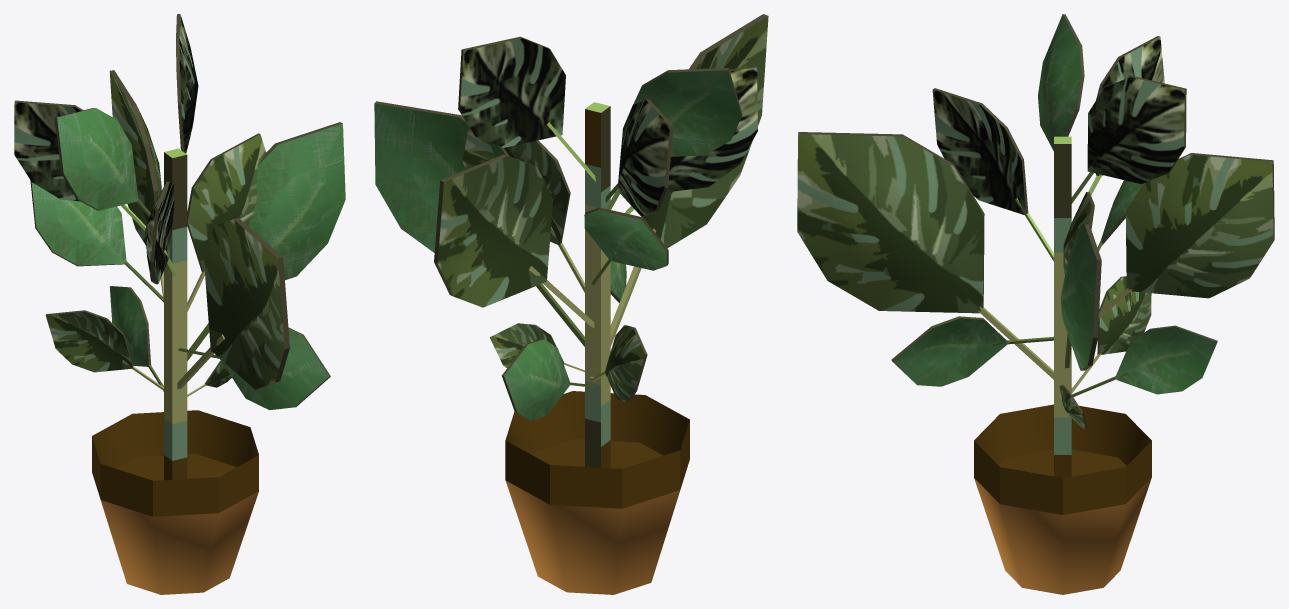
The model's file is Potted_Plant_Small.fbx.
The picture shows the model from 3 angles, left to right: view 1: azimuth 30°, elevation 25°; view 2: azimuth 150°, elevation 25°; view 3: azimuth 270°, elevation 25°; orthographic projection. The views are drawn at different scales.
Visible parts, largest first — view 1: Potted_Plant2; view 2: Potted_Plant2; view 3: Potted_Plant2.
Part boxes in pixels (bbox=[...]): Potted_Plant2: bbox=[14, 14, 345, 594]; Potted_Plant2: bbox=[374, 14, 768, 594]; Potted_Plant2: bbox=[797, 14, 1274, 594].
Size of the model in its own units: 44.67 by 69.31 by 58.48.
